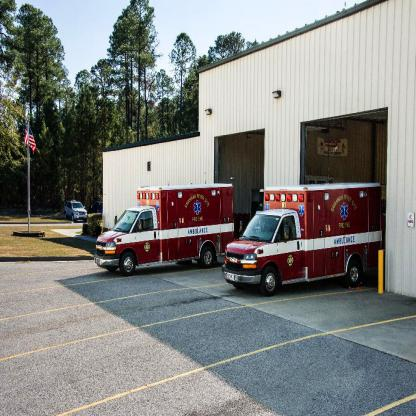Ambulance: (222, 183, 386, 293), (94, 187, 235, 276)
Truck: (222, 182, 382, 298), (98, 186, 237, 279)
